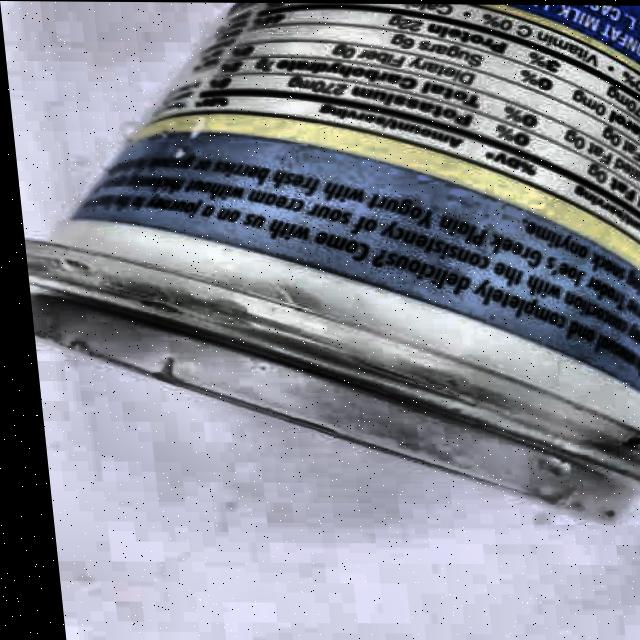plastic: (0, 0, 640, 523)
